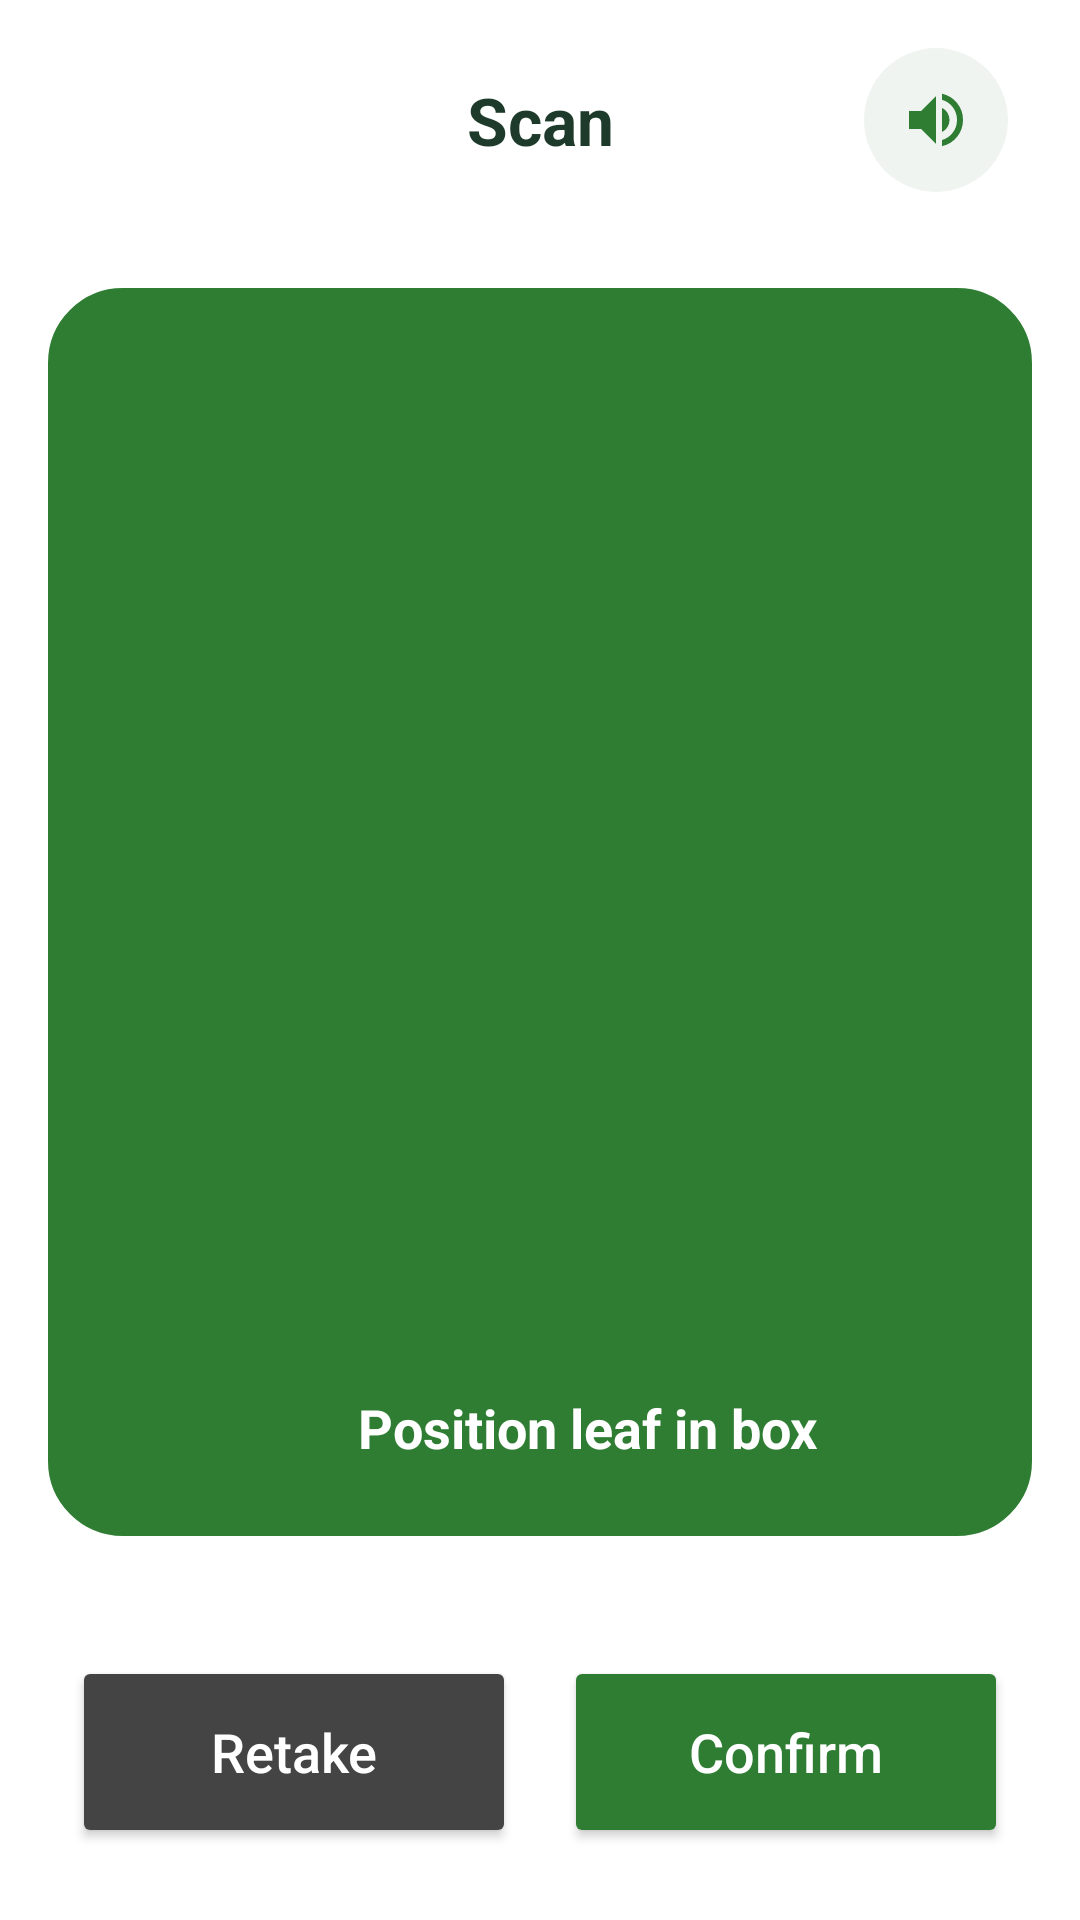

Named icons in this screenshot (1080 × 1920) and their centers, (x,y):
Listen: (936,120)
